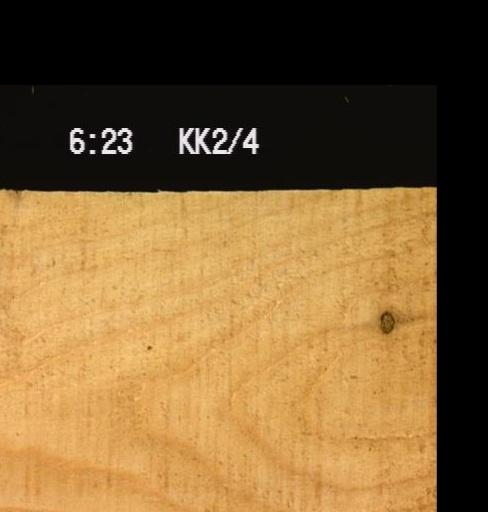dry_knot: (376, 308, 395, 337)
